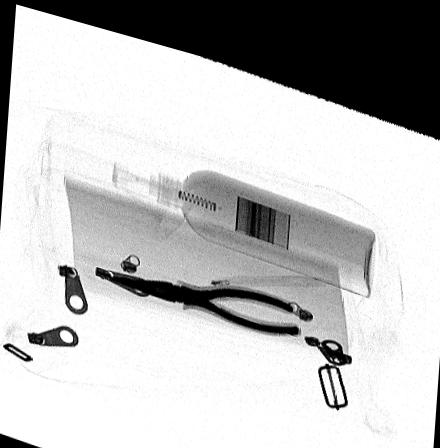Pliers: (102, 267, 302, 317)
